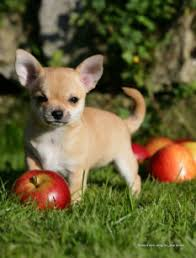chihuahua: (7, 38, 154, 211)
